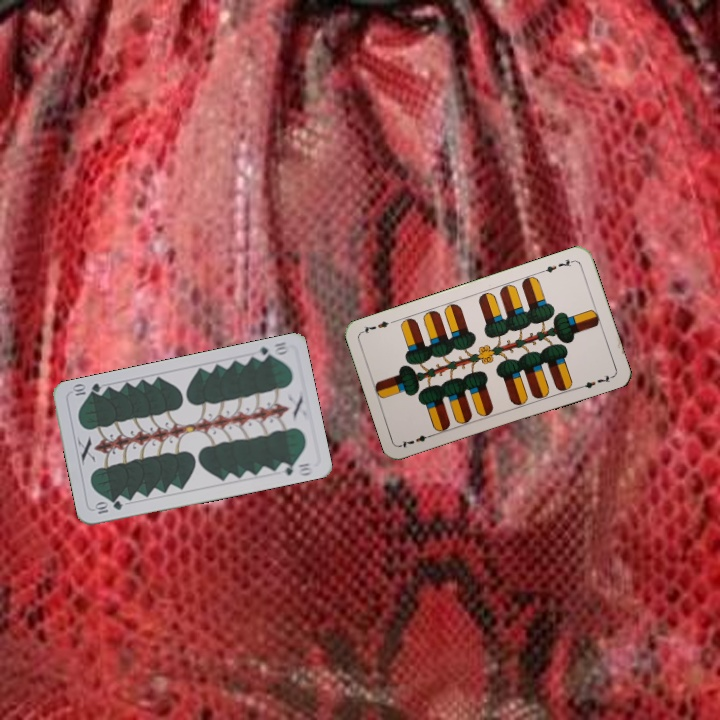E7: (537, 255, 577, 275), (397, 430, 436, 450)
G10: (252, 338, 292, 363), (91, 496, 125, 517)
